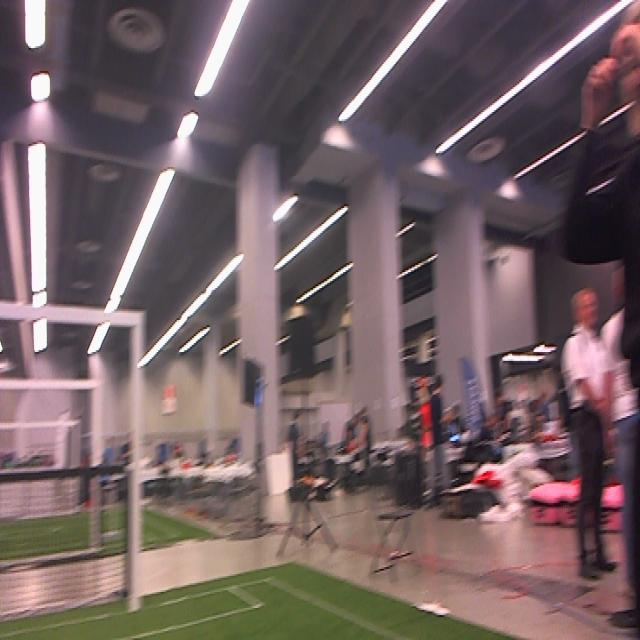goalpost: (127, 309, 144, 612)
